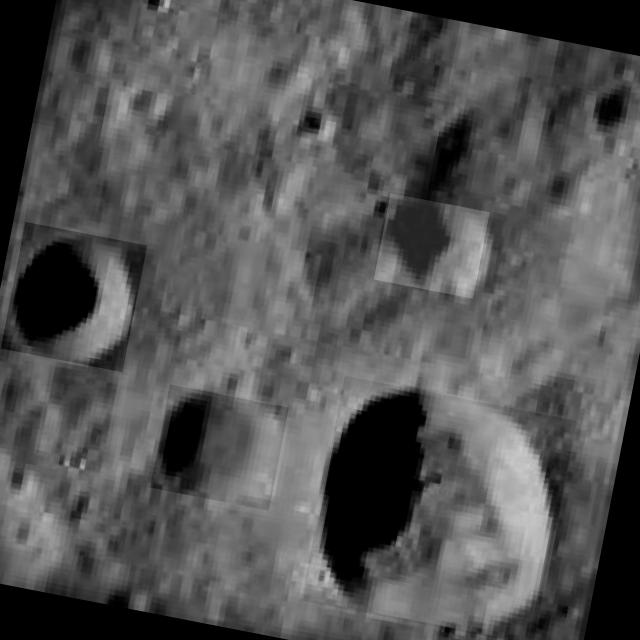crater: (301, 375, 576, 640), (1, 222, 147, 372), (150, 384, 289, 510), (374, 193, 489, 299)
